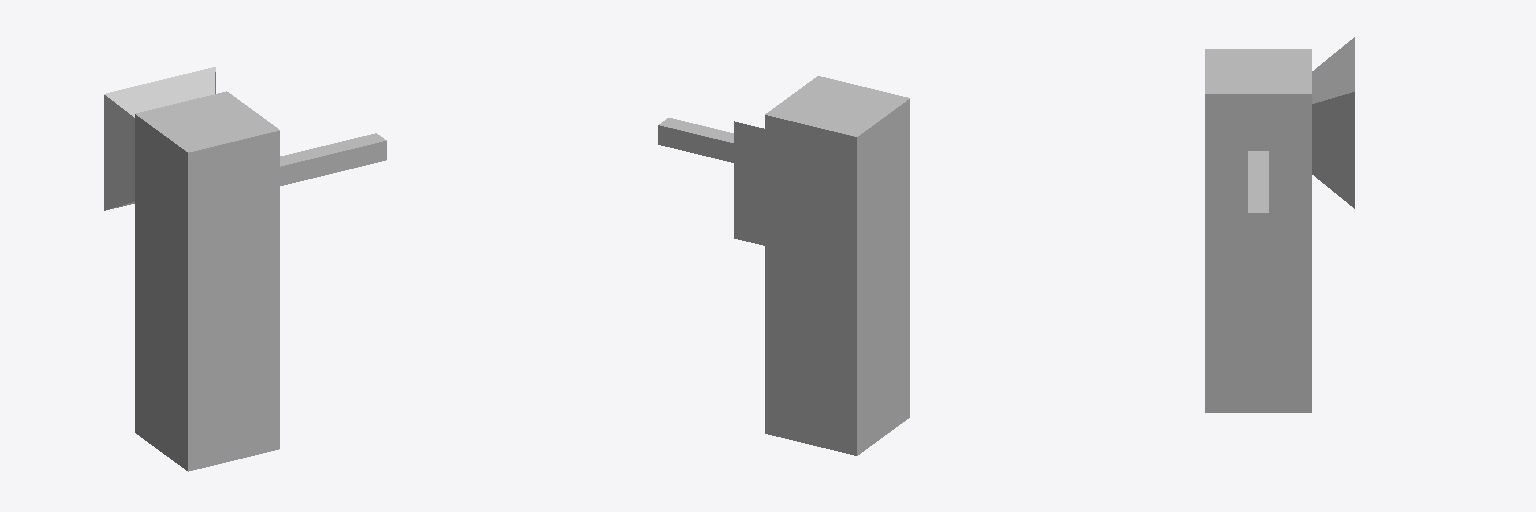
The model's file is npc_base.obj.
3 views of the same model, side by side, from view 1: azimuth 30°, elevation 25°; view 2: azimuth 150°, elevation 25°; view 3: azimuth 270°, elevation 25° (orthographic).
Visible parts, largest first — view 1: Cube.001; view 2: Cube.001; view 3: Cube.001.
Boxes of the visible parts, x1,y1,x2,y2 form: Cube.001: [104, 67, 386, 471]; Cube.001: [658, 76, 909, 455]; Cube.001: [1205, 37, 1354, 412].
Bounding box in the file's own units: 1.49 × 2.02 × 0.8394.